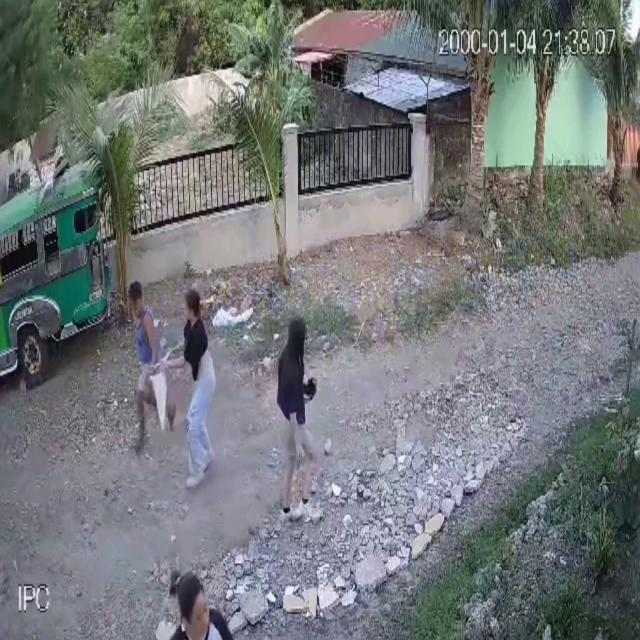walking: (271, 312, 328, 531), (156, 564, 238, 640)
